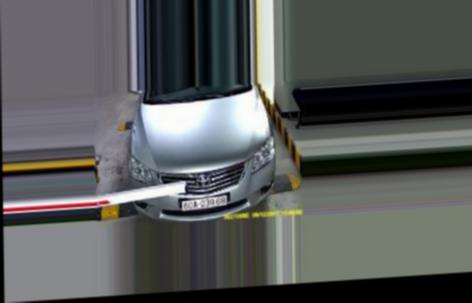License_Plate: (179, 196, 228, 211)
